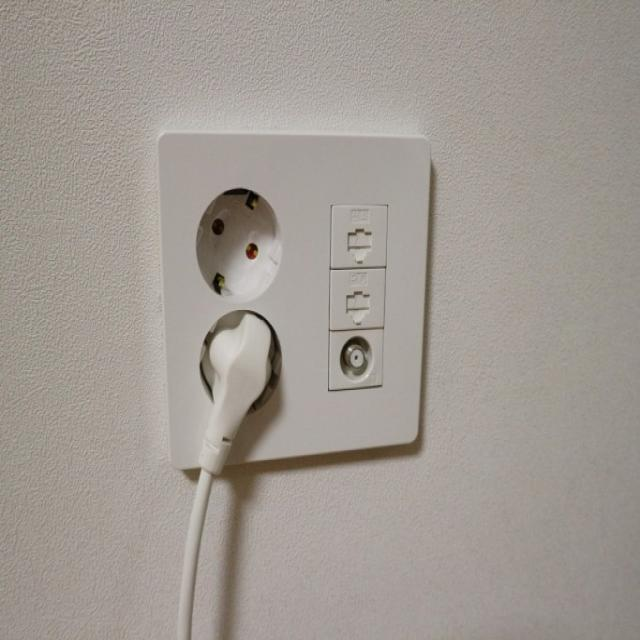typeb: (115, 87, 494, 475)
